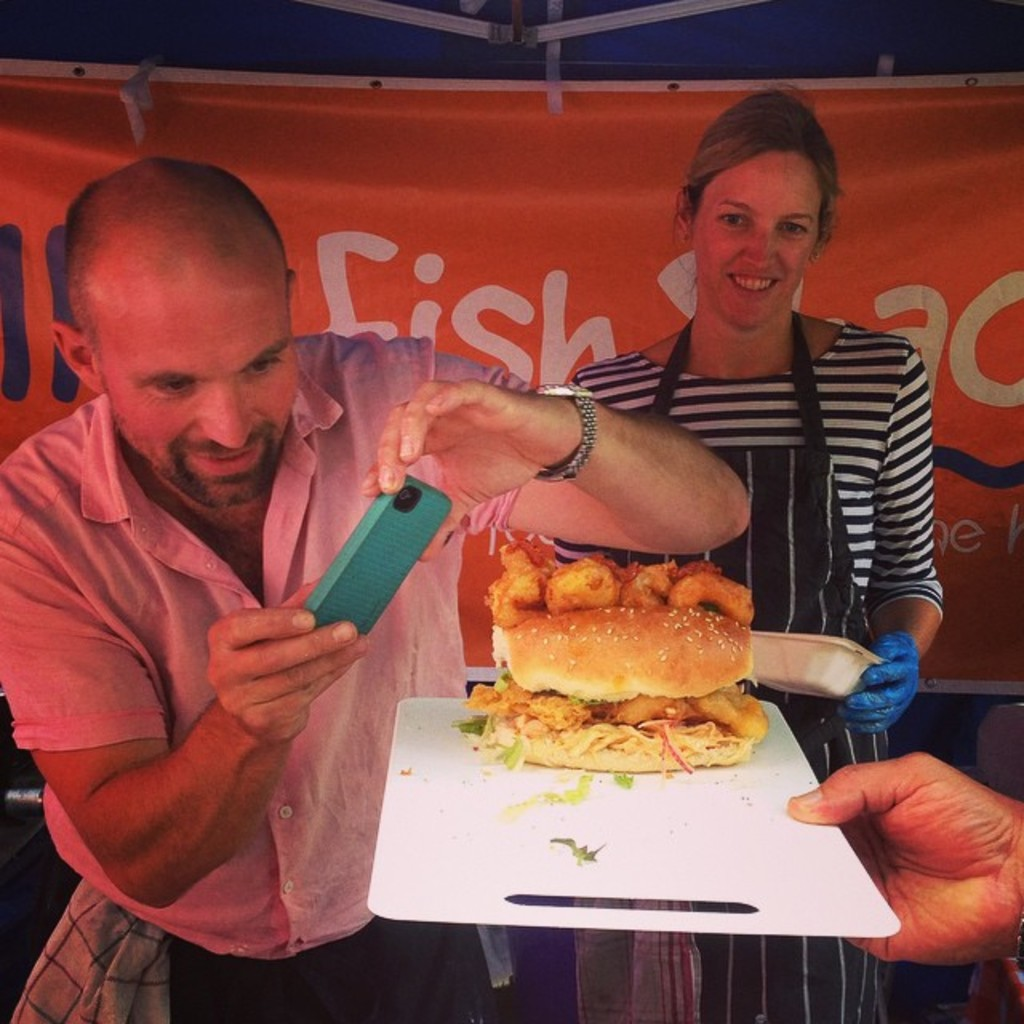Hamburger: (464, 542, 764, 769)
